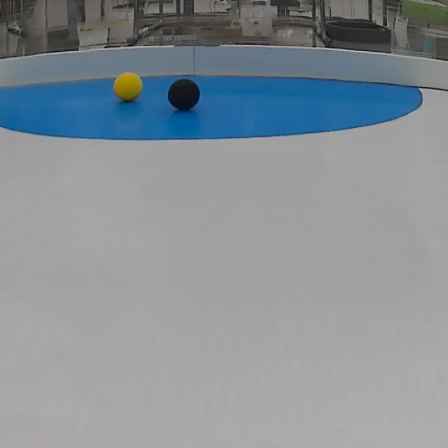black: (168, 79, 203, 110)
blue_base: (0, 74, 425, 143)
yellow: (114, 72, 146, 103)
